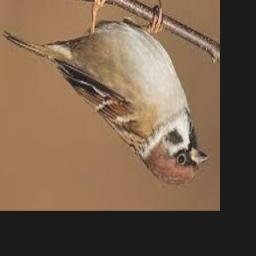Sparrow: (3, 0, 209, 186)
